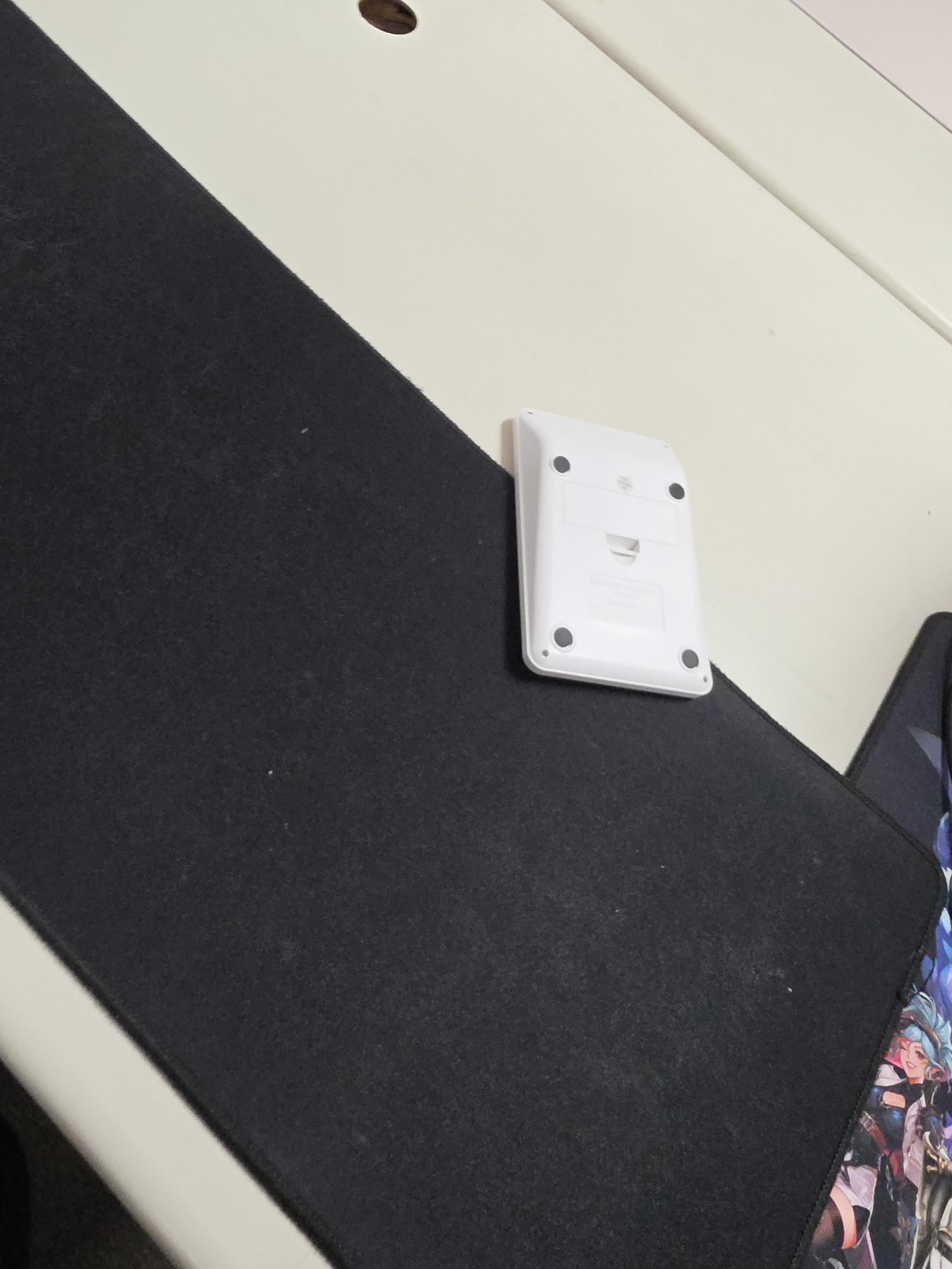calculator: (512, 407, 713, 698)
